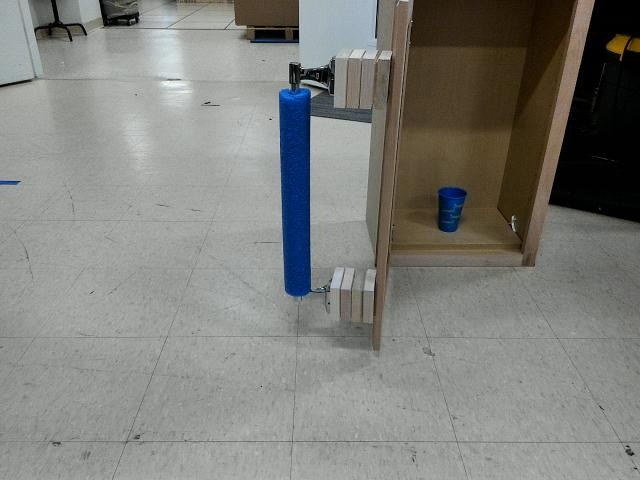noodle_handle: (275, 86, 318, 295)
water_cup: (434, 180, 467, 236)
